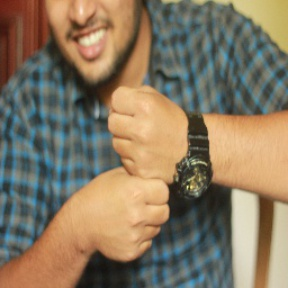G: (77, 77, 187, 268)
